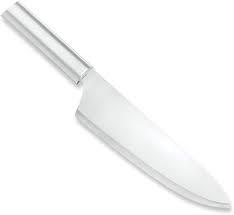Knife: (0, 0, 231, 209)
